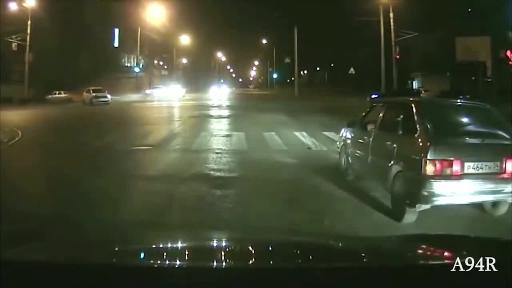Accident: (0, 58, 132, 143)
CAR: (308, 50, 511, 242), (131, 58, 251, 131)
